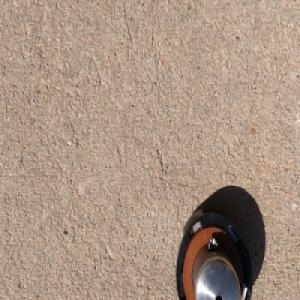FuelCap: (173, 205, 254, 300)
